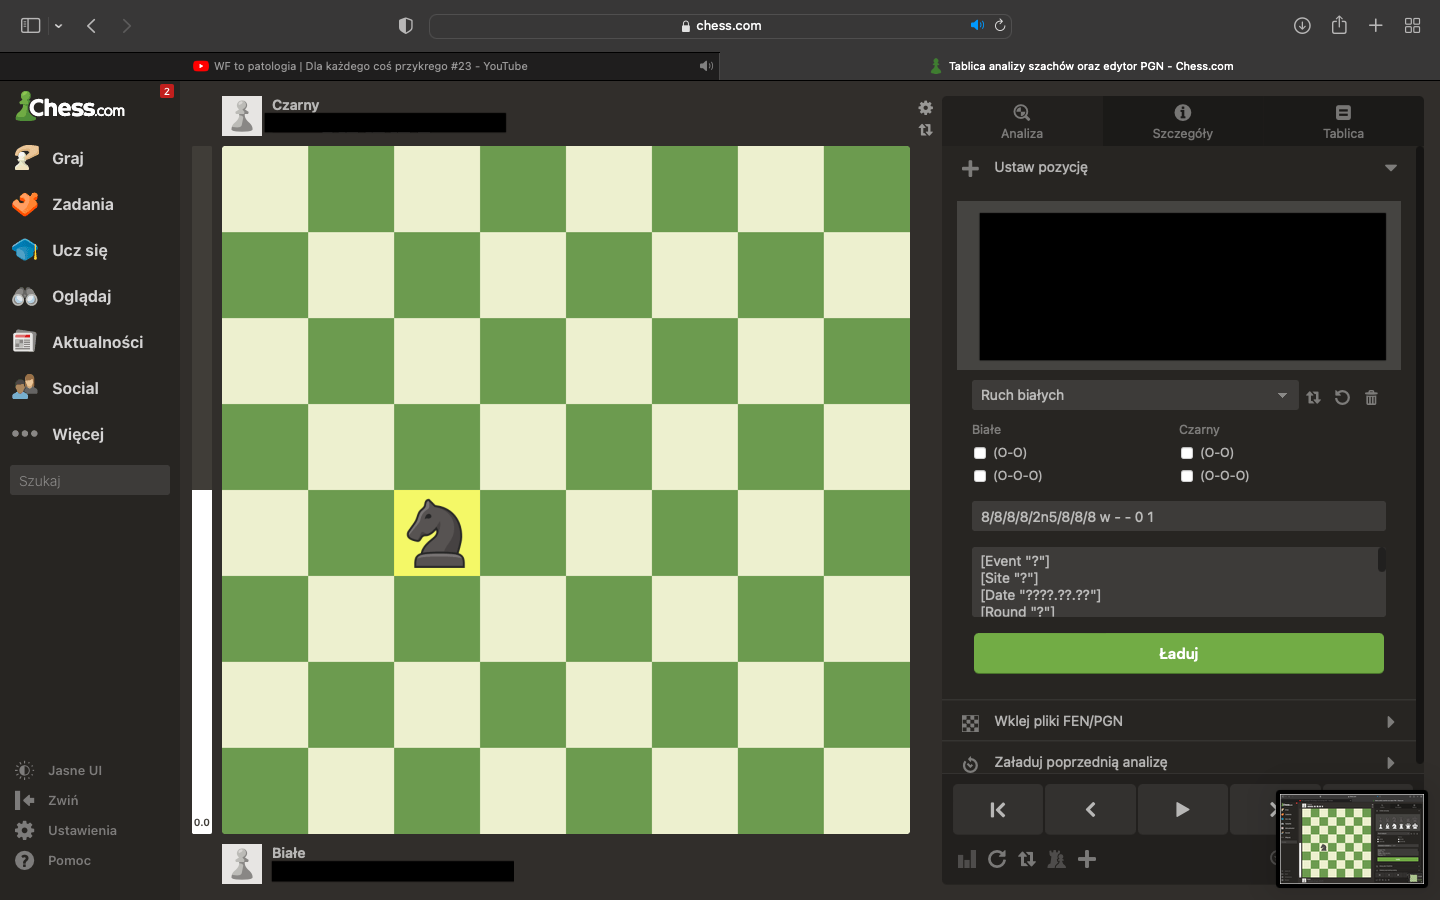black_knight: (406, 498, 467, 569)
